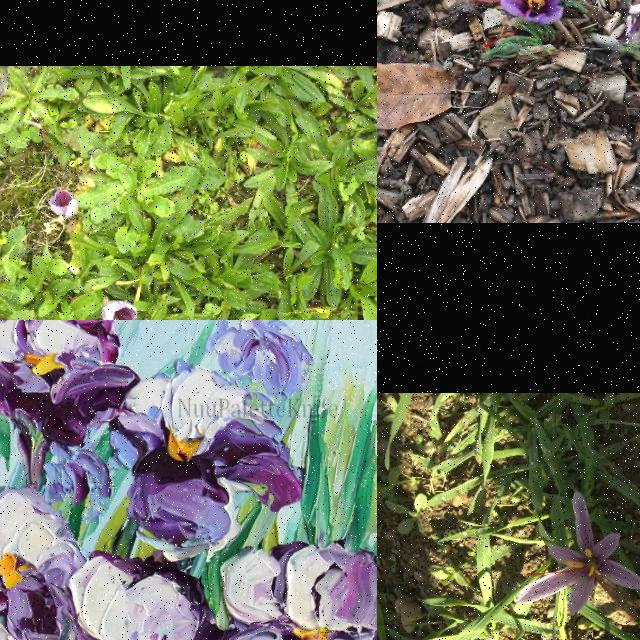flower: (514, 491, 640, 616), (465, 0, 569, 25), (48, 188, 78, 220), (101, 299, 138, 320)
